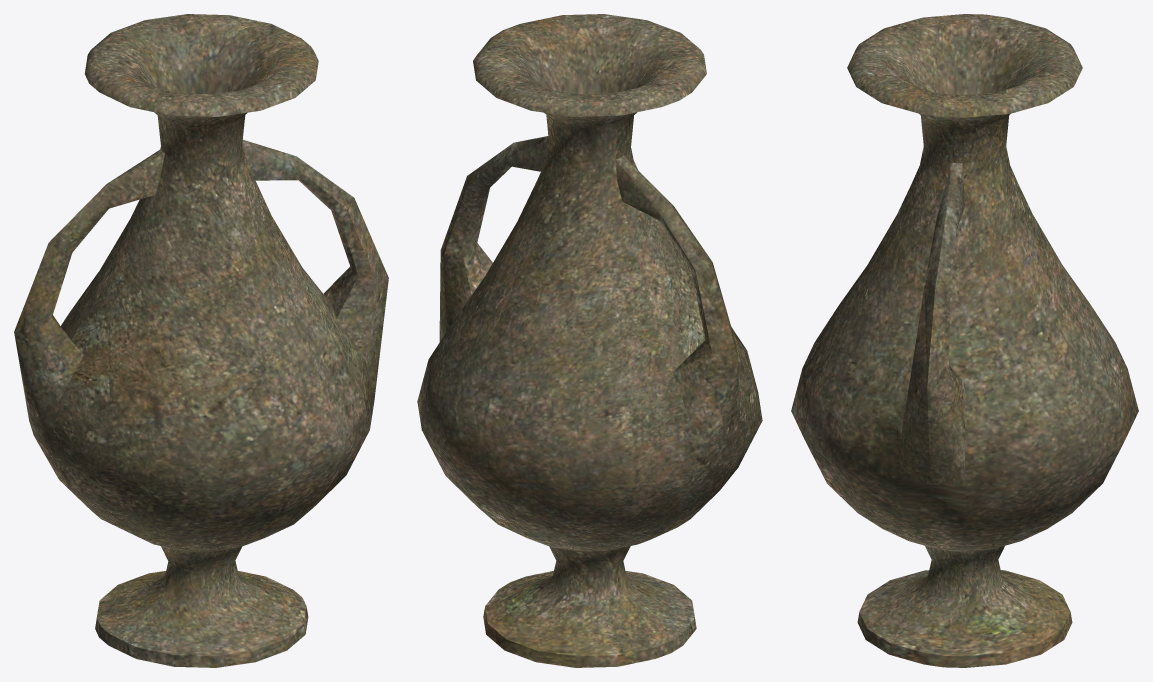
File: amphora2.fbx
3 renders of one model, left to right at view 1: azimuth 30°, elevation 25°; view 2: azimuth 150°, elevation 25°; view 3: azimuth 270°, elevation 25°, orthographic.
Visible parts, largest first — view 1: Mesh Object; view 2: Mesh Object; view 3: Mesh Object.
Boxes of the visible parts, x1,y1,x2,y2 form: Mesh Object: (14,14,388,667); Mesh Object: (417,14,762,667); Mesh Object: (791,14,1138,667).
Size of the model in its own units: 0.5464 by 0.8758 by 0.4898.
